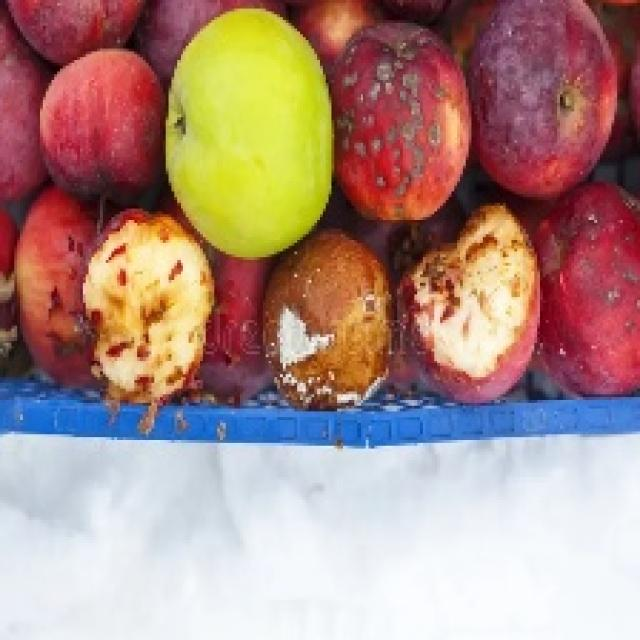rotten_apple: (332, 20, 468, 214), (476, 0, 613, 189), (80, 214, 210, 398), (420, 212, 537, 400), (542, 188, 640, 400), (271, 235, 388, 404), (15, 196, 98, 387)
